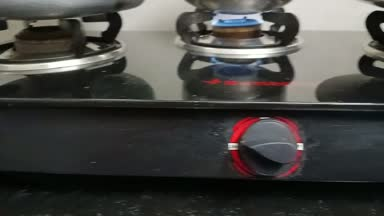flame_gas_on: (192, 6, 302, 181)
